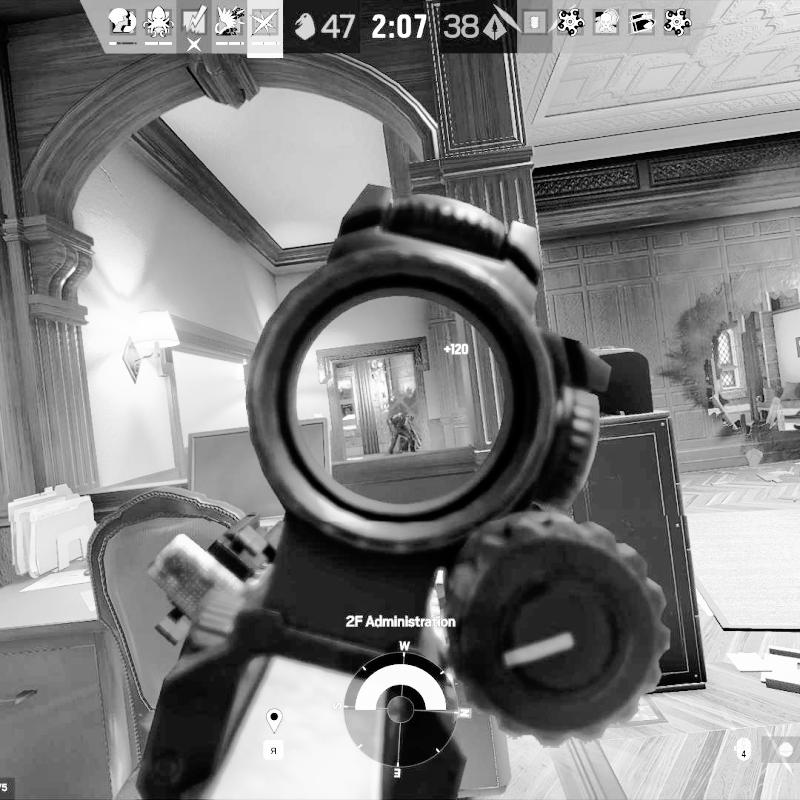Character: (384, 396, 423, 454)
